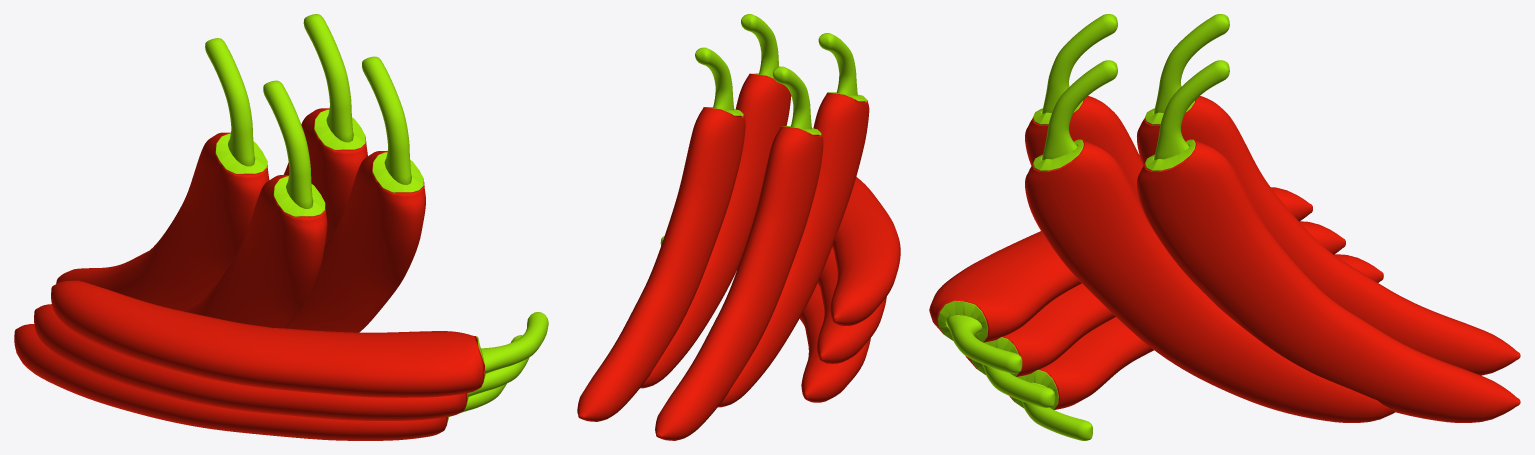
The model's file is ChiliGroup.fbx.
3 renders of one model, left to right at view 1: azimuth 30°, elevation 25°; view 2: azimuth 150°, elevation 25°; view 3: azimuth 270°, elevation 25°, orthographic. The views are drawn at different scales.
Parts seen in each view (by area): view 1: Vert.007, Vert.001, Vert.004, Vert.002, Vert.006, Vert.005, Vert.003; view 2: Vert.003, Vert.001, Vert.002, Vert.004, Vert.007, Vert.005, Vert.006; view 3: Vert.003, Vert.004, Vert.001, Vert.007, Vert.006, Vert.005, Vert.002.
Boxes of the visible parts, x1=… form: Vert.007: x1=51, y1=280, x2=548, y2=397; Vert.001: x1=56, y1=38, x2=269, y2=310; Vert.004: x1=286, y1=56, x2=425, y2=332; Vert.002: x1=183, y1=80, x2=327, y2=328; Vert.006: x1=34, y1=304, x2=528, y2=420; Vert.005: x1=14, y1=324, x2=506, y2=440; Vert.003: x1=283, y1=14, x2=367, y2=246; Vert.003: x1=577, y1=47, x2=745, y2=421; Vert.001: x1=655, y1=66, x2=823, y2=440; Vert.002: x1=718, y1=33, x2=869, y2=407; Vert.004: x1=640, y1=14, x2=791, y2=388; Vert.007: x1=830, y1=177, x2=900, y2=325; Vert.005: x1=660, y1=236, x2=870, y2=402; Vert.006: x1=817, y1=248, x2=886, y2=363; Vert.003: x1=1137, y1=60, x2=1520, y2=422; Vert.004: x1=1025, y1=60, x2=1394, y2=422; Vert.001: x1=1137, y1=14, x2=1520, y2=375; Vert.007: x1=929, y1=187, x2=1312, y2=373; Vert.006: x1=965, y1=221, x2=1345, y2=407; Vert.005: x1=1009, y1=254, x2=1383, y2=440; Vert.002: x1=1025, y1=14, x2=1143, y2=200.
Bounding box in the file's own units: 362 × 362 × 539.
